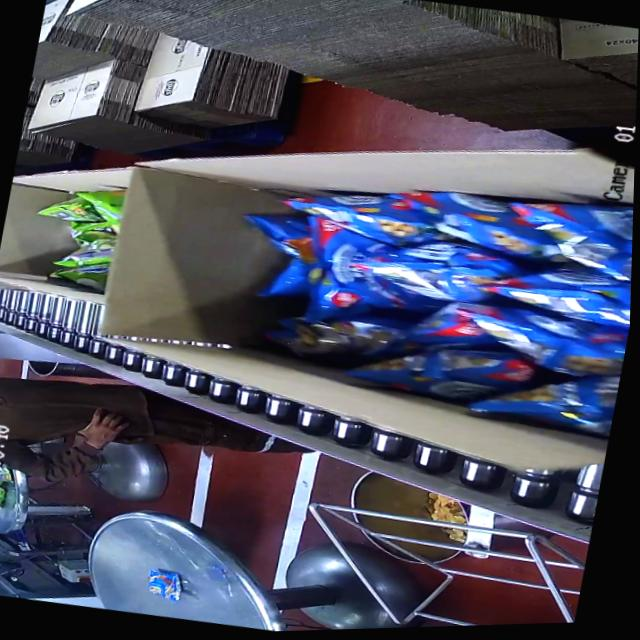PAPRIKA: (247, 148, 635, 446)
